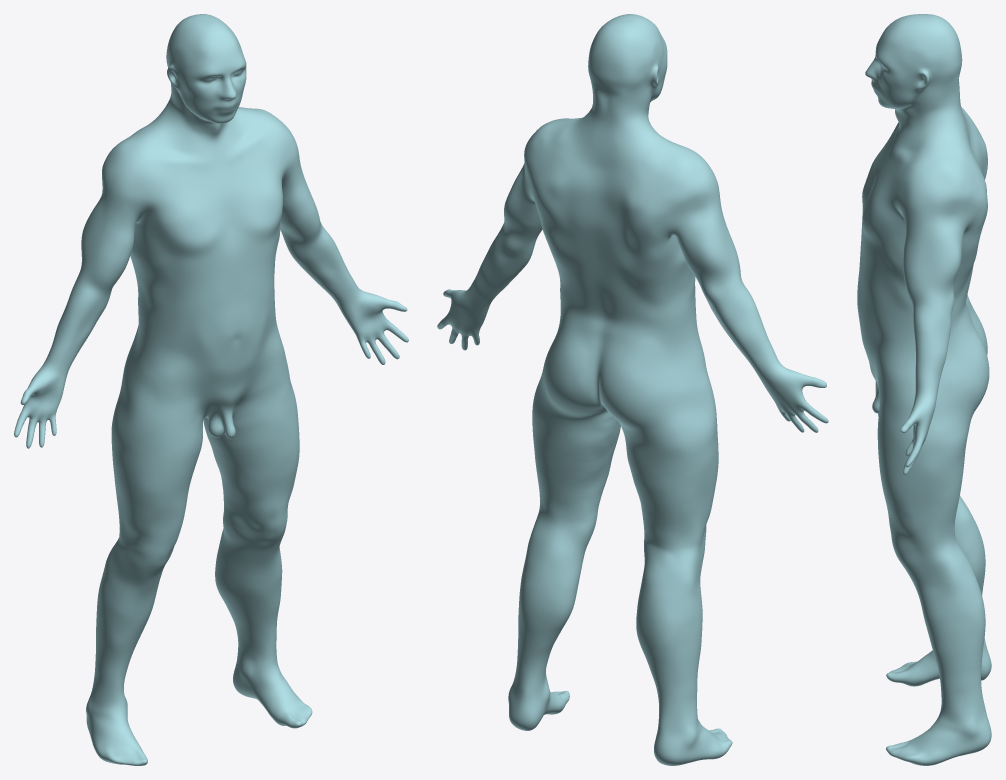
File: body.glb
The picture shows the model from 3 angles, left to right: view 1: azimuth 30°, elevation 25°; view 2: azimuth 150°, elevation 25°; view 3: azimuth 270°, elevation 25°; orthographic projection. The views are drawn at different scales.
Visible parts, largest first — view 1: VH_M_skin; view 2: VH_M_skin; view 3: VH_M_skin.
Part boxes in pixels (<box>): VH_M_skin: <box>14,14,408,765</box>; VH_M_skin: <box>437,14,828,765</box>; VH_M_skin: <box>857,14,991,765</box>.
Bounding box in the file's own units: 1.05 × 1.83 × 0.3162.
